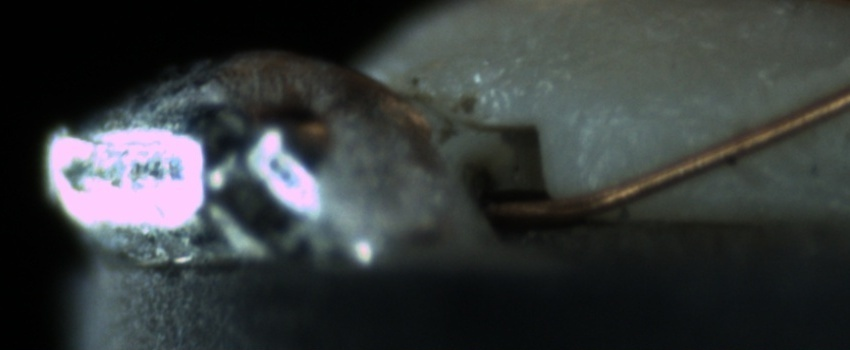DL: (588, 86, 740, 144)
